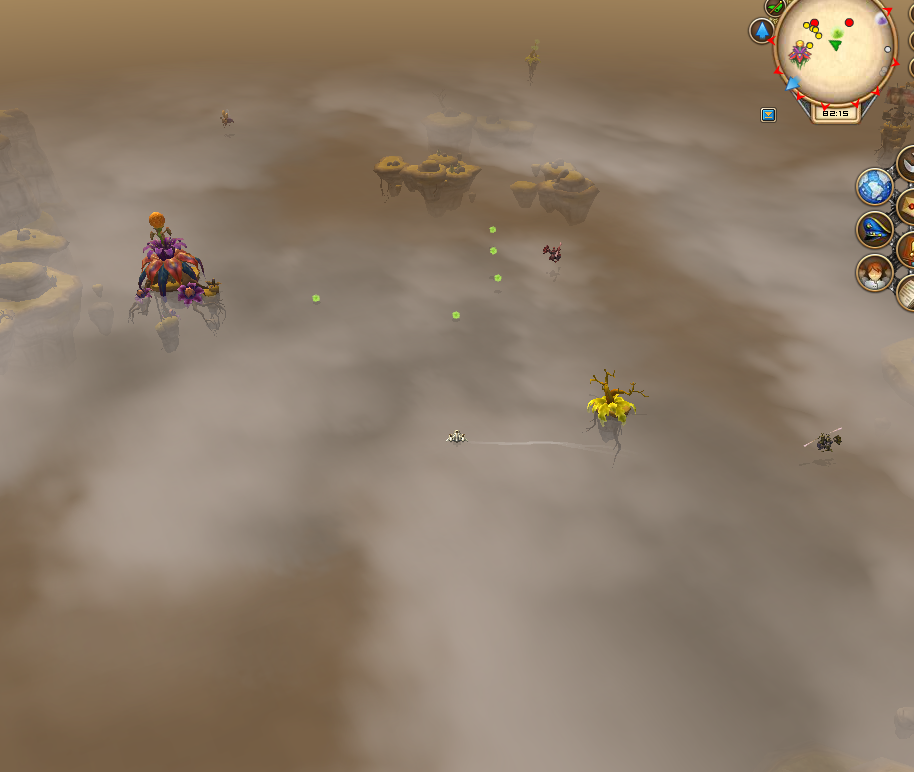dandelion-empty: (582, 364, 649, 449)
fluff: (448, 308, 464, 322), (484, 222, 499, 236), (487, 243, 499, 257), (491, 271, 503, 284), (309, 292, 323, 303)
